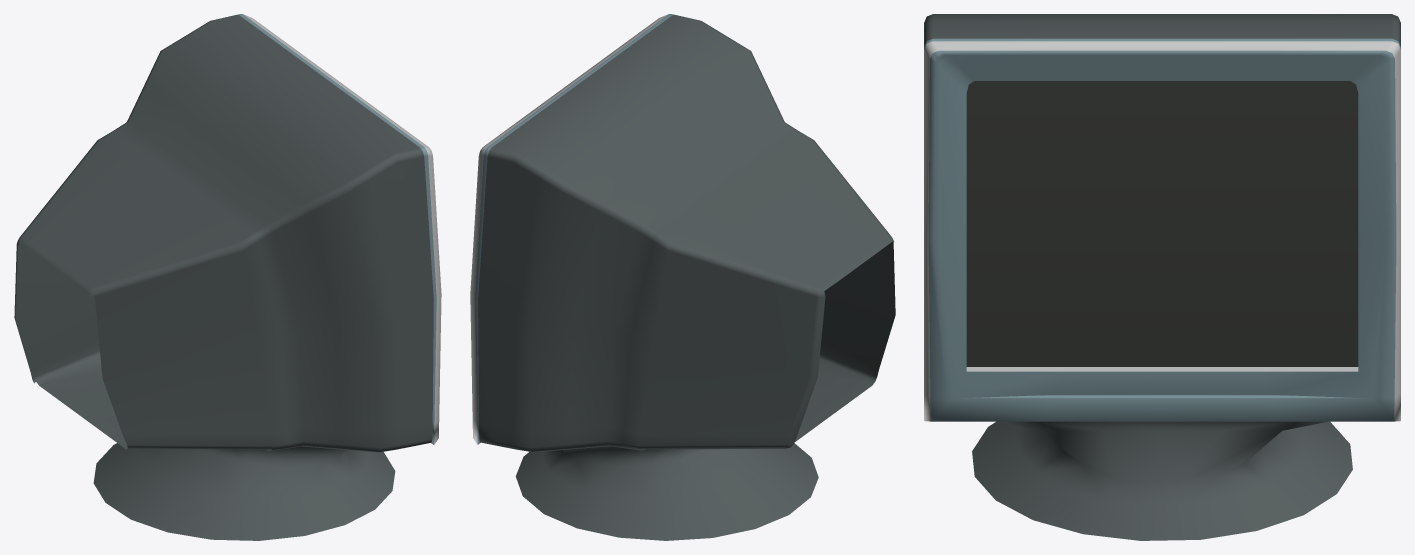
File: SM_Moinitor_KP.fbx
3 renders of one model, left to right at view 1: azimuth 30°, elevation 25°; view 2: azimuth 150°, elevation 25°; view 3: azimuth 270°, elevation 25°, orthographic. The views are drawn at different scales.
Visible parts, largest first — view 1: Monitor; view 2: Monitor; view 3: Monitor.
Boxes of the visible parts, x1,y1,x2,y2 form: Monitor: [14, 14, 441, 540]; Monitor: [470, 14, 895, 540]; Monitor: [924, 14, 1400, 540].
Bounding box in the file's own units: 0.7048 × 0.7834 × 0.7129.
